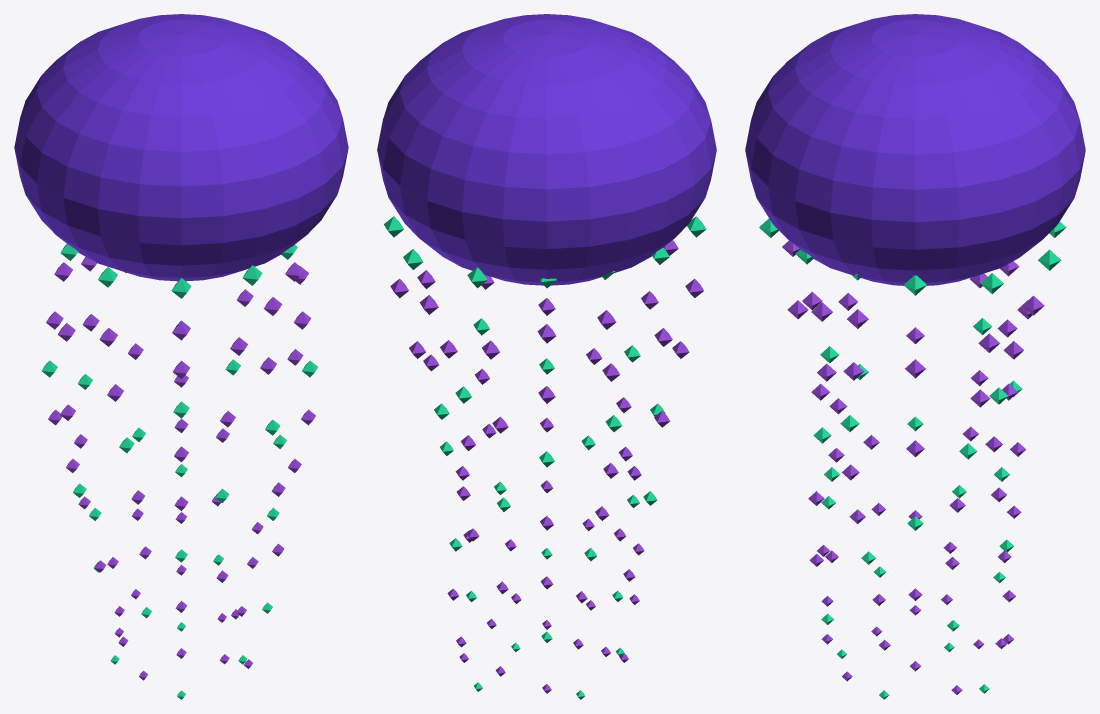
Rendered from jellyfish.glb.
3 views of the same model, side by side, from view 1: azimuth 30°, elevation 25°; view 2: azimuth 150°, elevation 25°; view 3: azimuth 270°, elevation 25° (orthographic).
Visible parts, largest first — view 1: jellyfish; view 2: jellyfish; view 3: jellyfish.
Part boxes in pixels (x1=…): jellyfish: x1=14, y1=14, x2=348, y2=699; jellyfish: x1=377, y1=14, x2=716, y2=699; jellyfish: x1=745, y1=14, x2=1085, y2=699.
Size of the model in its own units: 0.8708 by 1.81 by 0.8708.
